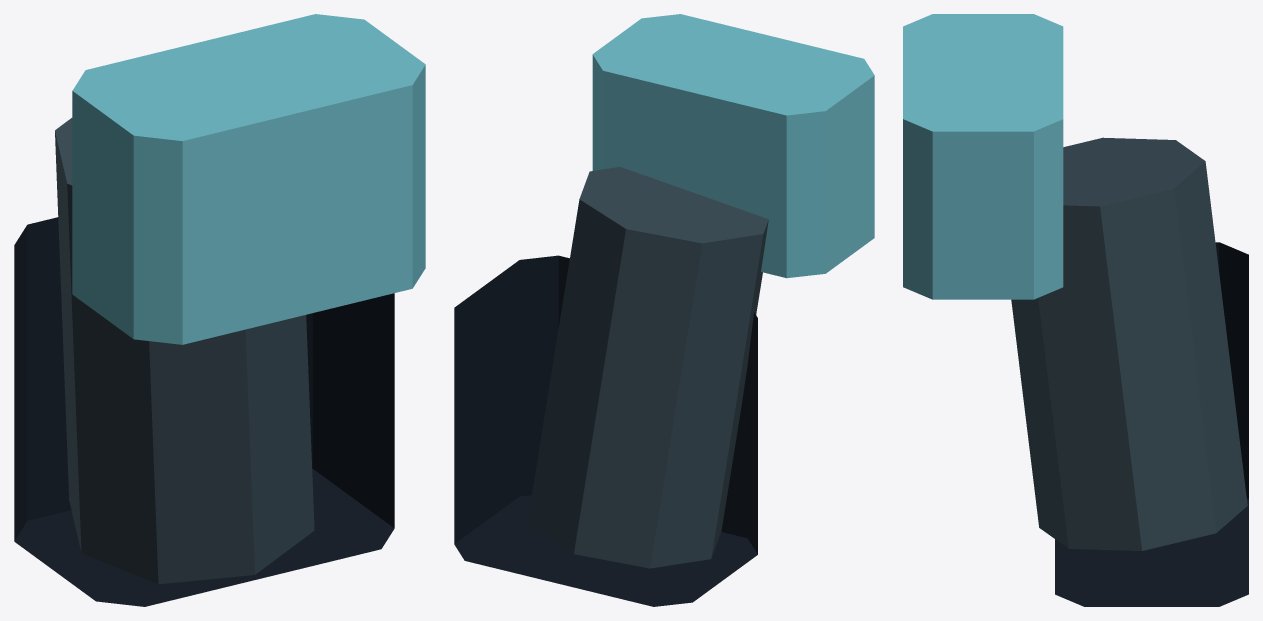
The model's file is enemy_marksman_lod_shin_l.obj.
3 renders of one model, left to right at view 1: azimuth 30°, elevation 25°; view 2: azimuth 150°, elevation 25°; view 3: azimuth 270°, elevation 25°, orthographic. The views are drawn at different scales.
Bounding box in the file's own units: 0.3988 × 0.59 × 0.41.
